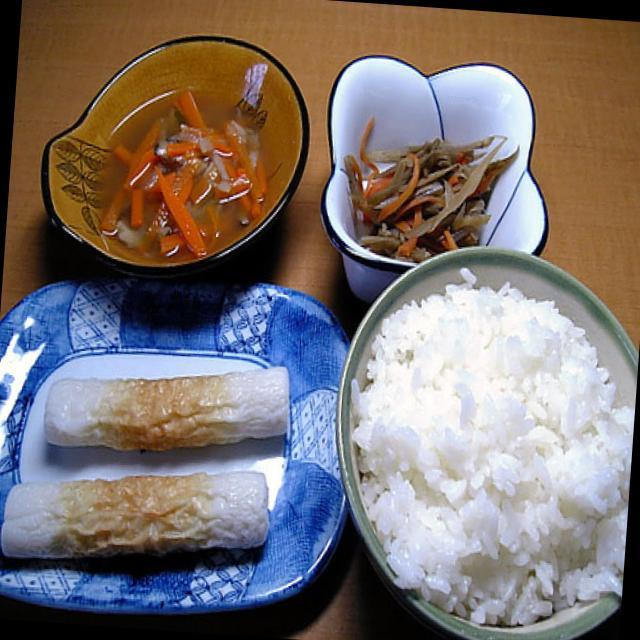Rice: (453, 165, 640, 406)
